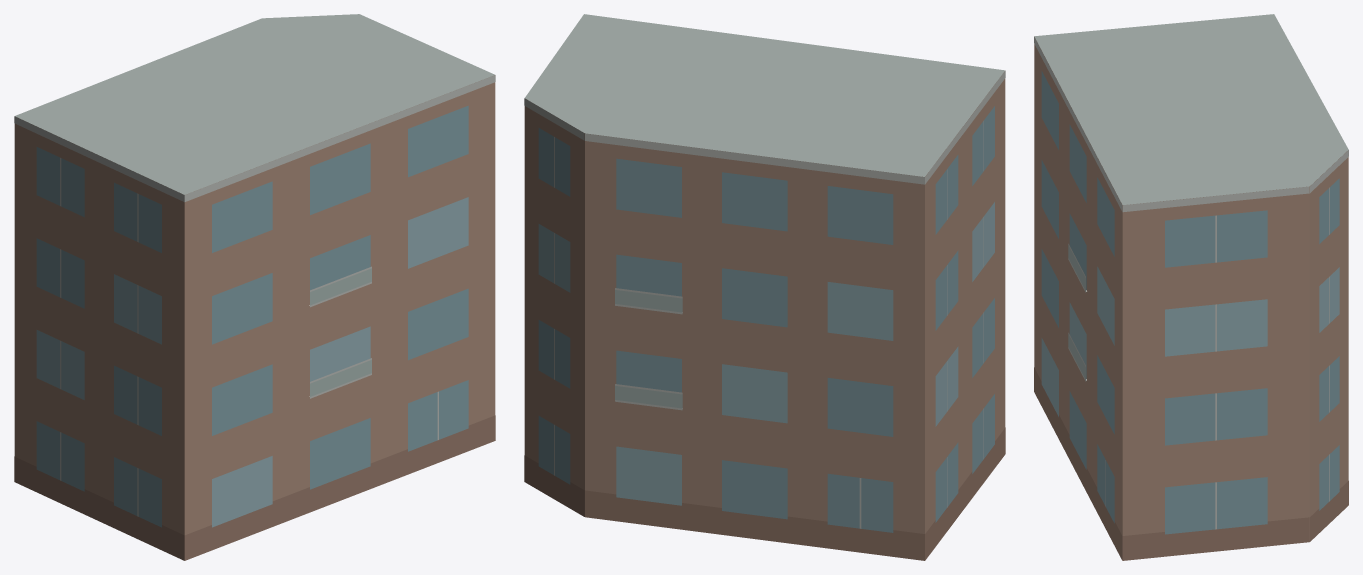
Rendered from survey-upis-32952871.glb.
3 renders of one model, left to right at view 1: azimuth 30°, elevation 25°; view 2: azimuth 150°, elevation 25°; view 3: azimuth 270°, elevation 25°, orthographic. The views are drawn at different scales.
Visible parts, largest first — view 1: survey-upis-32952871.tmp; view 2: survey-upis-32952871.tmp; view 3: survey-upis-32952871.tmp.
Part boxes in pixels (bbox=[...]): survey-upis-32952871.tmp: bbox=[14, 14, 495, 560]; survey-upis-32952871.tmp: bbox=[524, 14, 1005, 560]; survey-upis-32952871.tmp: bbox=[1034, 14, 1348, 560].
Bounding box in the file's own units: 14.19 × 12.3 × 9.87.
